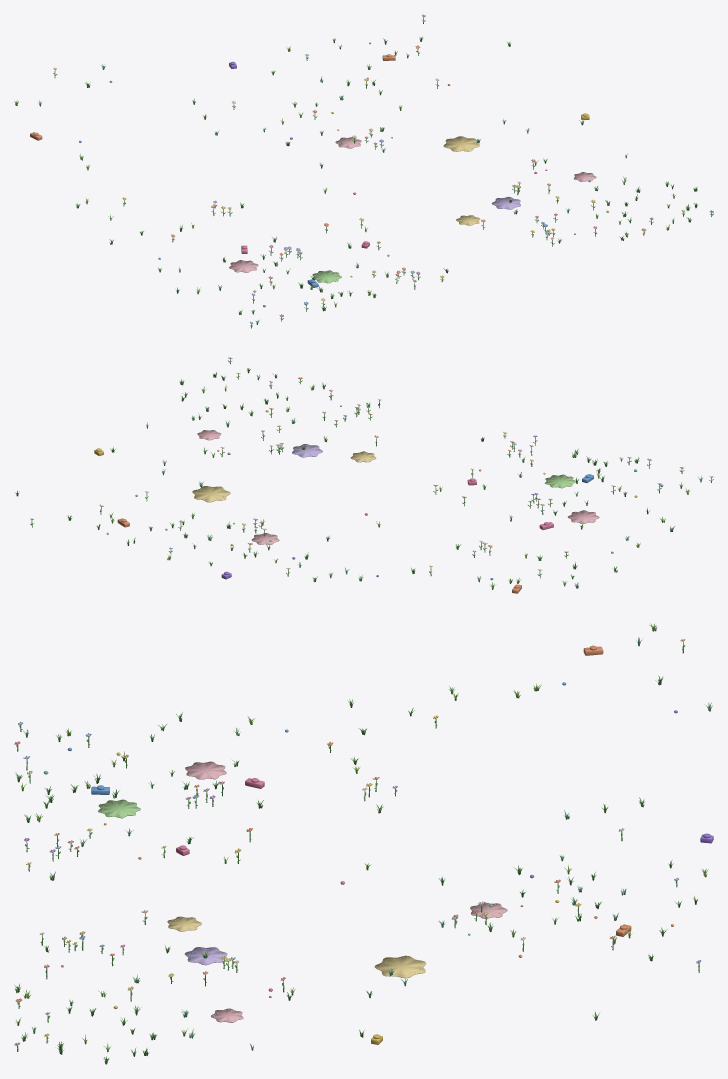
Rendered from W1_Flora.fbx.
The picture shows the model from 3 angles, top to bottom: view 1: azimuth 30°, elevation 25°; view 2: azimuth 150°, elevation 25°; view 3: azimuth 270°, elevation 25°; orthographic projection. The views are drawn at different scales.
Parts seen in each view (by area): view 1: W1_Flora; view 2: W1_Flora; view 3: W1_Flora.
Part boxes in pixels (x1,y1,x2,y2): W1_Flora: [14, 14, 713, 328]; W1_Flora: [15, 357, 713, 593]; W1_Flora: [14, 623, 713, 1064].
Bounding box in the file's own units: 7.65 × 1.26 × 6.45.
